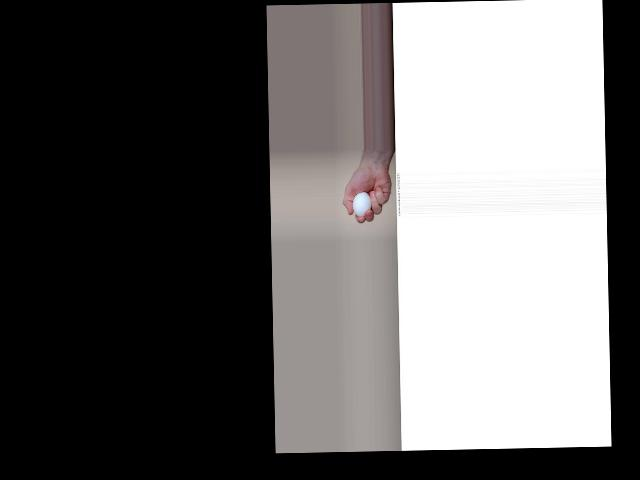egg: (352, 191, 371, 216)
